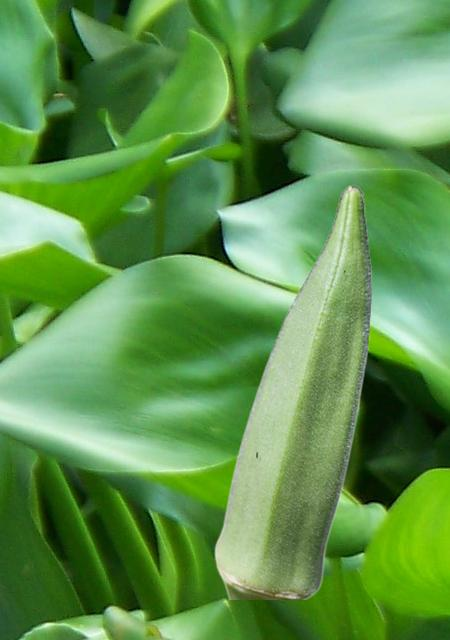okra: (214, 184, 371, 598)
